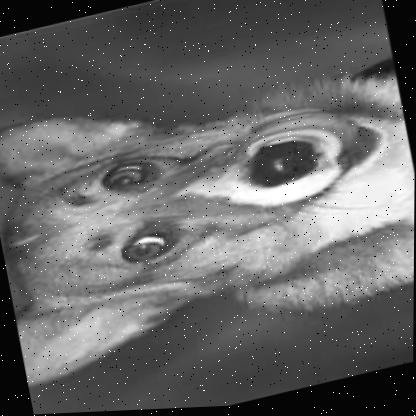dog: (0, 32, 416, 389)
